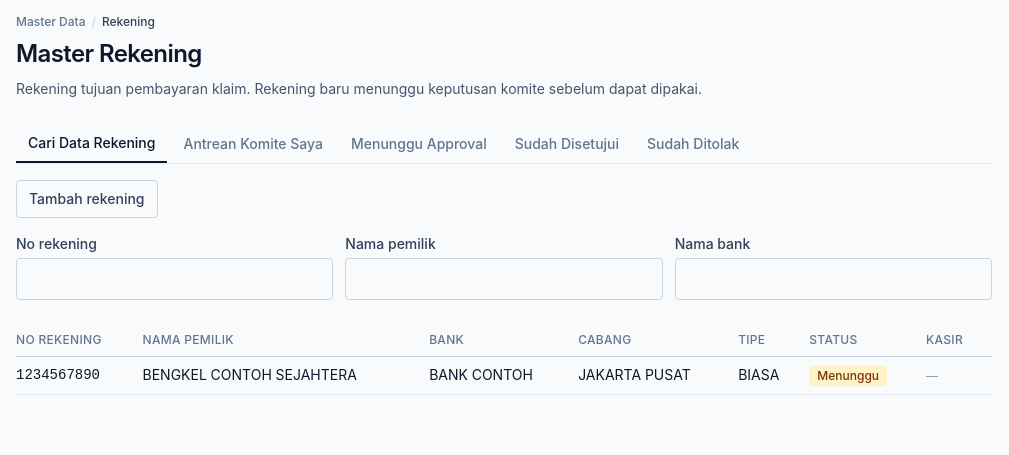
Scenario: AccountPage › memberi tahu saat komite lain sudah memutuskan lebih dulu
The width and height of the screenshot is (1009, 455).
Click the button "Menunggu Approval": (419,144) 339,125 -> 499,163
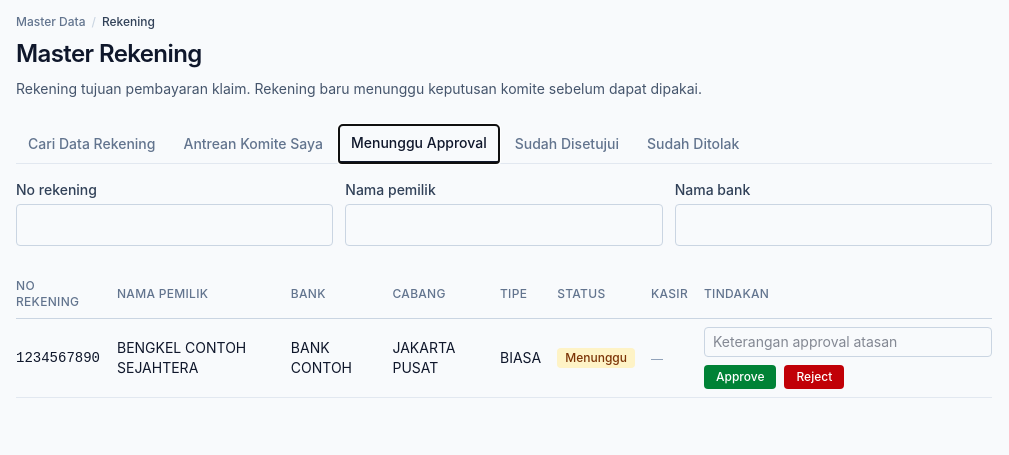
Click the button "Approve": (740,377) 704,365 -> 776,389
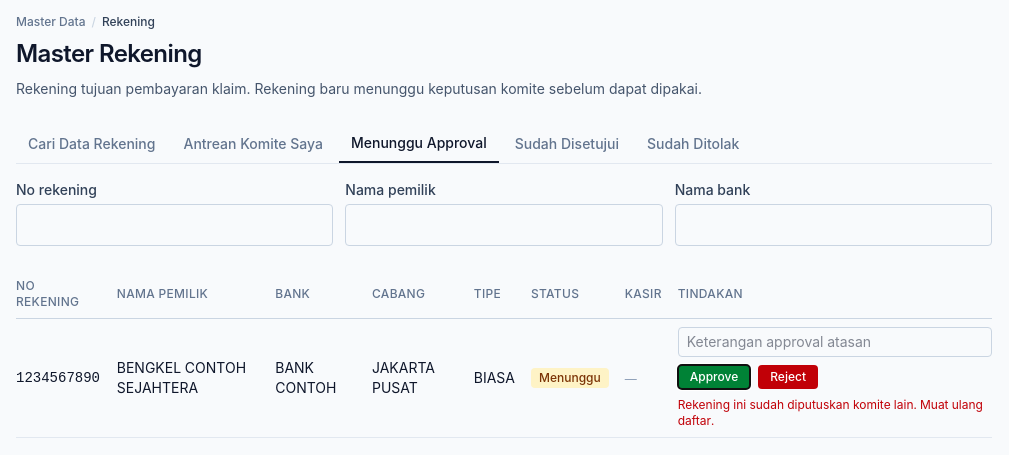
Check: the text "Rekening ini sudah diputuskan komite lain. Muat ulang daftar." is shown, box 678,397 -> 992,429
